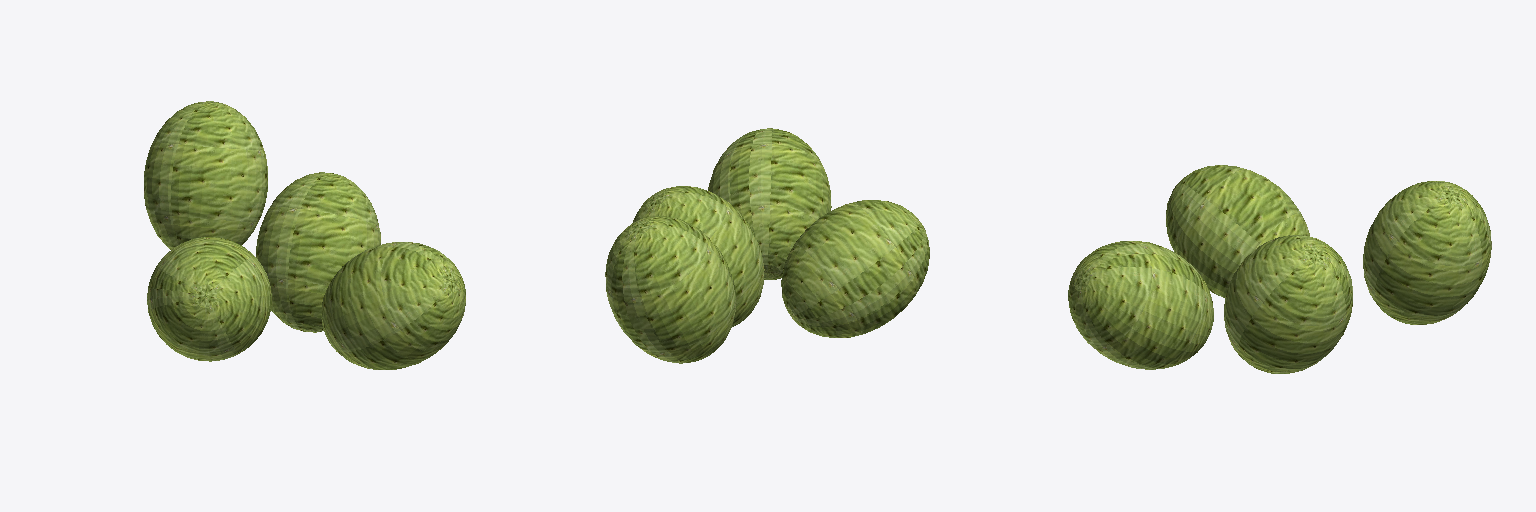
3 renders of one model, left to right at view 1: azimuth 30°, elevation 25°; view 2: azimuth 150°, elevation 25°; view 3: azimuth 270°, elevation 25°, orthographic.
Parts seen in each view (by area): view 1: Esfera.027_Material.013; view 2: Esfera.027_Material.013; view 3: Esfera.027_Material.013.
Boxes of the visible parts, x1,y1,x2,y2 form: Esfera.027_Material.013: [144, 101, 465, 369]; Esfera.027_Material.013: [605, 128, 929, 363]; Esfera.027_Material.013: [1068, 165, 1491, 373].
Size of the model in its own units: 0.2366 by 0.1537 by 0.3466.
Materials: 1 (1 with a texture image).